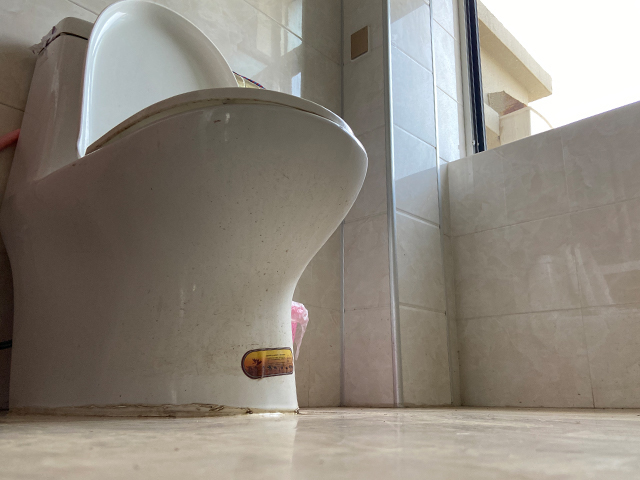closestool: (1, 1, 371, 419)
